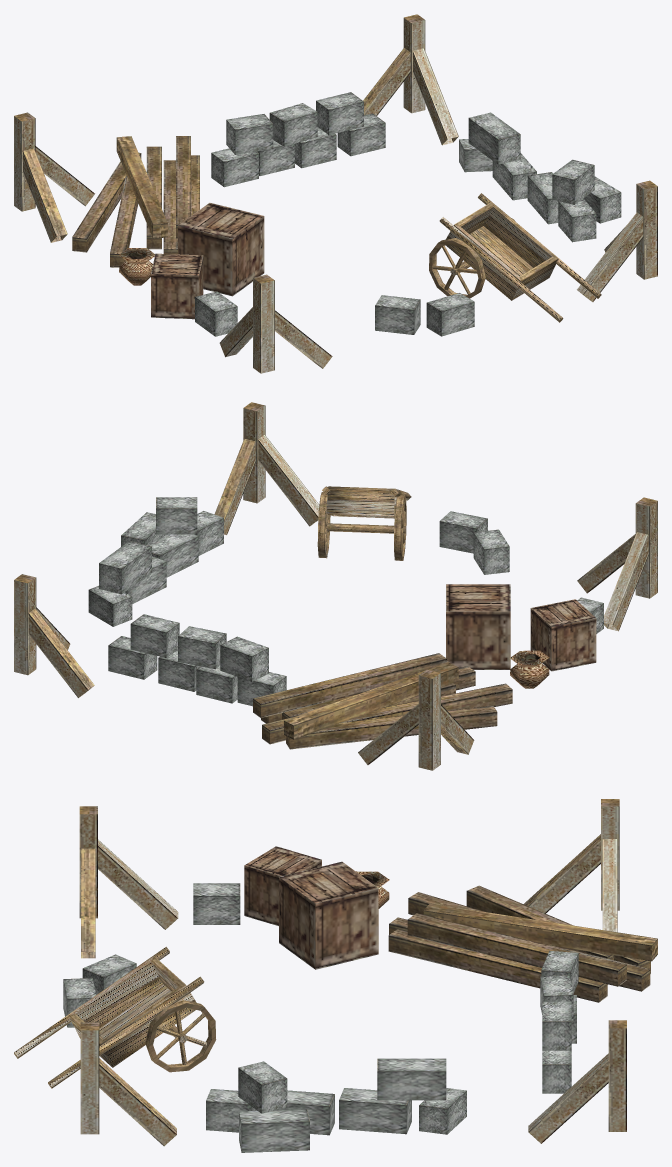
The model's file is found_3x3_b.dae.
3 renders of one model, top to bottom at view 1: azimuth 30°, elevation 25°; view 2: azimuth 150°, elevation 25°; view 3: azimuth 270°, elevation 25°, orthographic. The views are drawn at different scales.
Visible parts, largest first — view 1: objhand_cart_final02-Pivot; view 2: objhand_cart_final02-Pivot; view 3: objhand_cart_final02-Pivot.
Boxes of the visible parts, x1,y1,x2,y2 form: objhand_cart_final02-Pivot: (14,14,657,373); objhand_cart_final02-Pivot: (14,402,657,770); objhand_cart_final02-Pivot: (14,799,657,1152).
Size of the model in its own units: 14.55 by 15.44 by 3.08.
